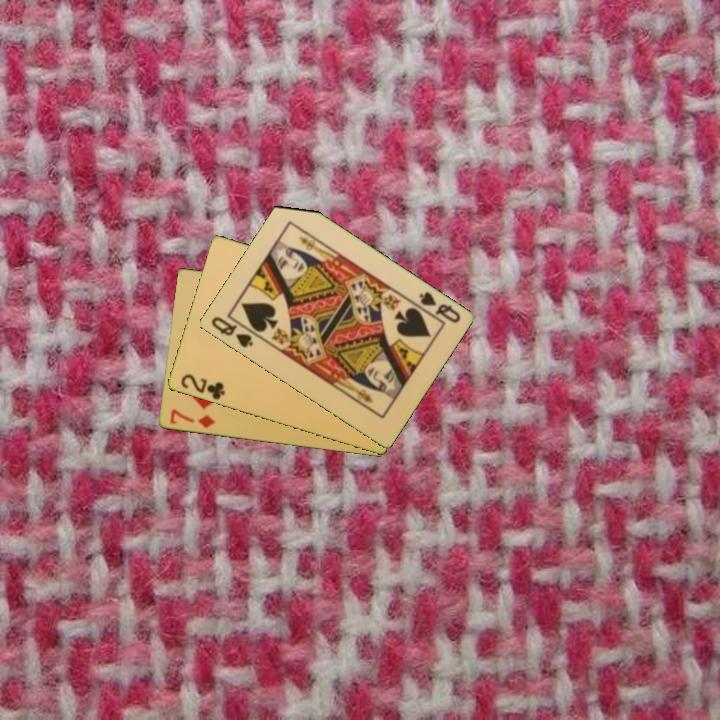2c: (177, 371, 227, 403)
7d: (166, 406, 217, 431)
Qs: (411, 288, 463, 326), (207, 313, 256, 351)
